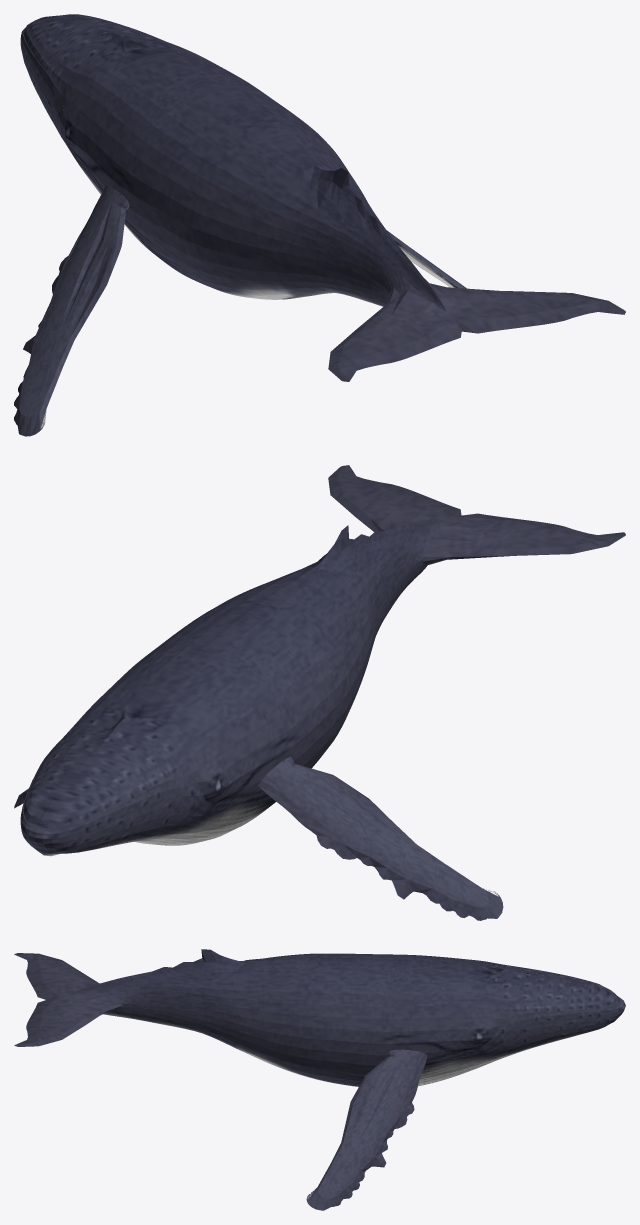
Rendered from whale.obj.
3 renders of one model, top to bottom at view 1: azimuth 30°, elevation 25°; view 2: azimuth 150°, elevation 25°; view 3: azimuth 270°, elevation 25°, orthographic. The views are drawn at different scales.
Parts seen in each view (by area): view 1: whale; view 2: whale; view 3: whale.
Part boxes in pixels (<box>): whale: <box>14,14,625,436</box>; whale: <box>14,465,625,920</box>; whale: <box>14,949,625,1210</box>.
Bounding box in the file's own units: 1.53 × 0.8228 × 2.5.
Materials: 1 (1 with a texture image).
